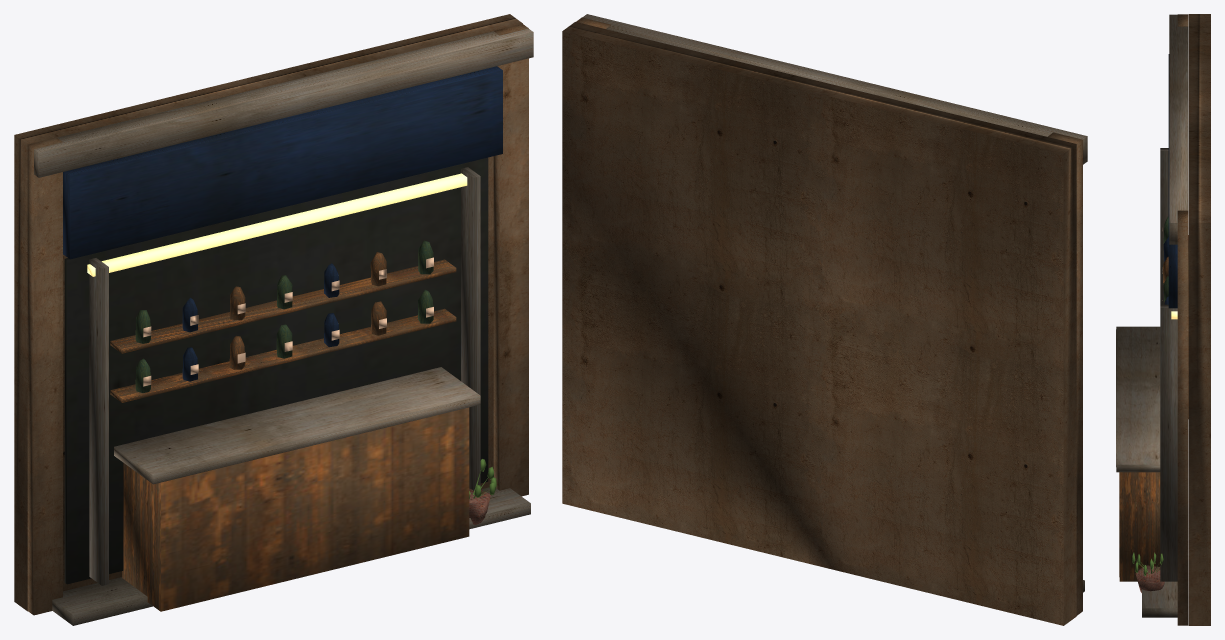
Rendered from mat_tien_tret_03_lod1.glb.
The picture shows the model from 3 angles, left to right: view 1: azimuth 30°, elevation 25°; view 2: azimuth 150°, elevation 25°; view 3: azimuth 270°, elevation 25°; orthographic projection. The views are drawn at different scales.
Visible parts, largest first — view 1: mat_tien_tret_03.001; view 2: mat_tien_tret_03.001; view 3: mat_tien_tret_03.001.
Boxes of the visible parts, x1,y1,x2,y2 form: mat_tien_tret_03.001: (14,14,533,625); mat_tien_tret_03.001: (562,14,1087,625); mat_tien_tret_03.001: (1116,14,1210,625).
Bounding box in the file's own units: 4 × 3.6 × 0.7668.
2 materials, 2 textured.
